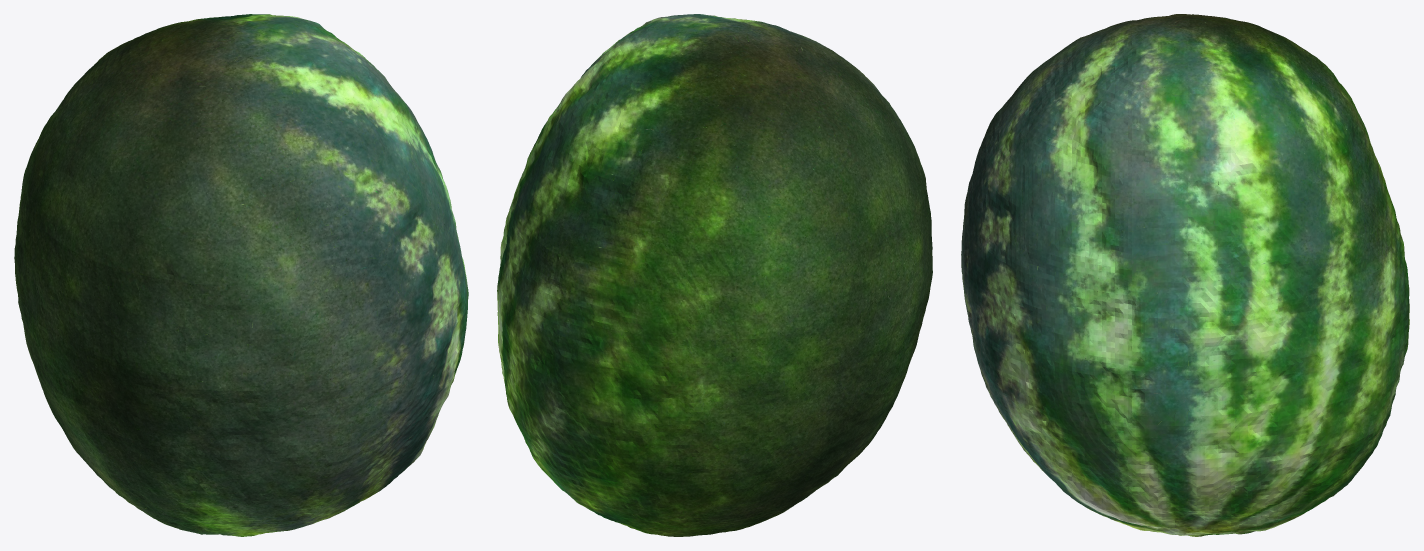
File: watermelon_before.gltf
The picture shows the model from 3 angles, left to right: view 1: azimuth 30°, elevation 25°; view 2: azimuth 150°, elevation 25°; view 3: azimuth 270°, elevation 25°; orthographic projection. The views are drawn at different scales.
Parts seen in each view (by area): view 1: model; view 2: model; view 3: model.
Part boxes in pixels (<box>): model: <box>14,14,468,536</box>; model: <box>497,14,932,536</box>; model: <box>961,14,1409,536</box>.
Bounding box in the file's own units: 0.6629 × 0.8156 × 0.6846.
Materials: 1 (1 with a texture image).
